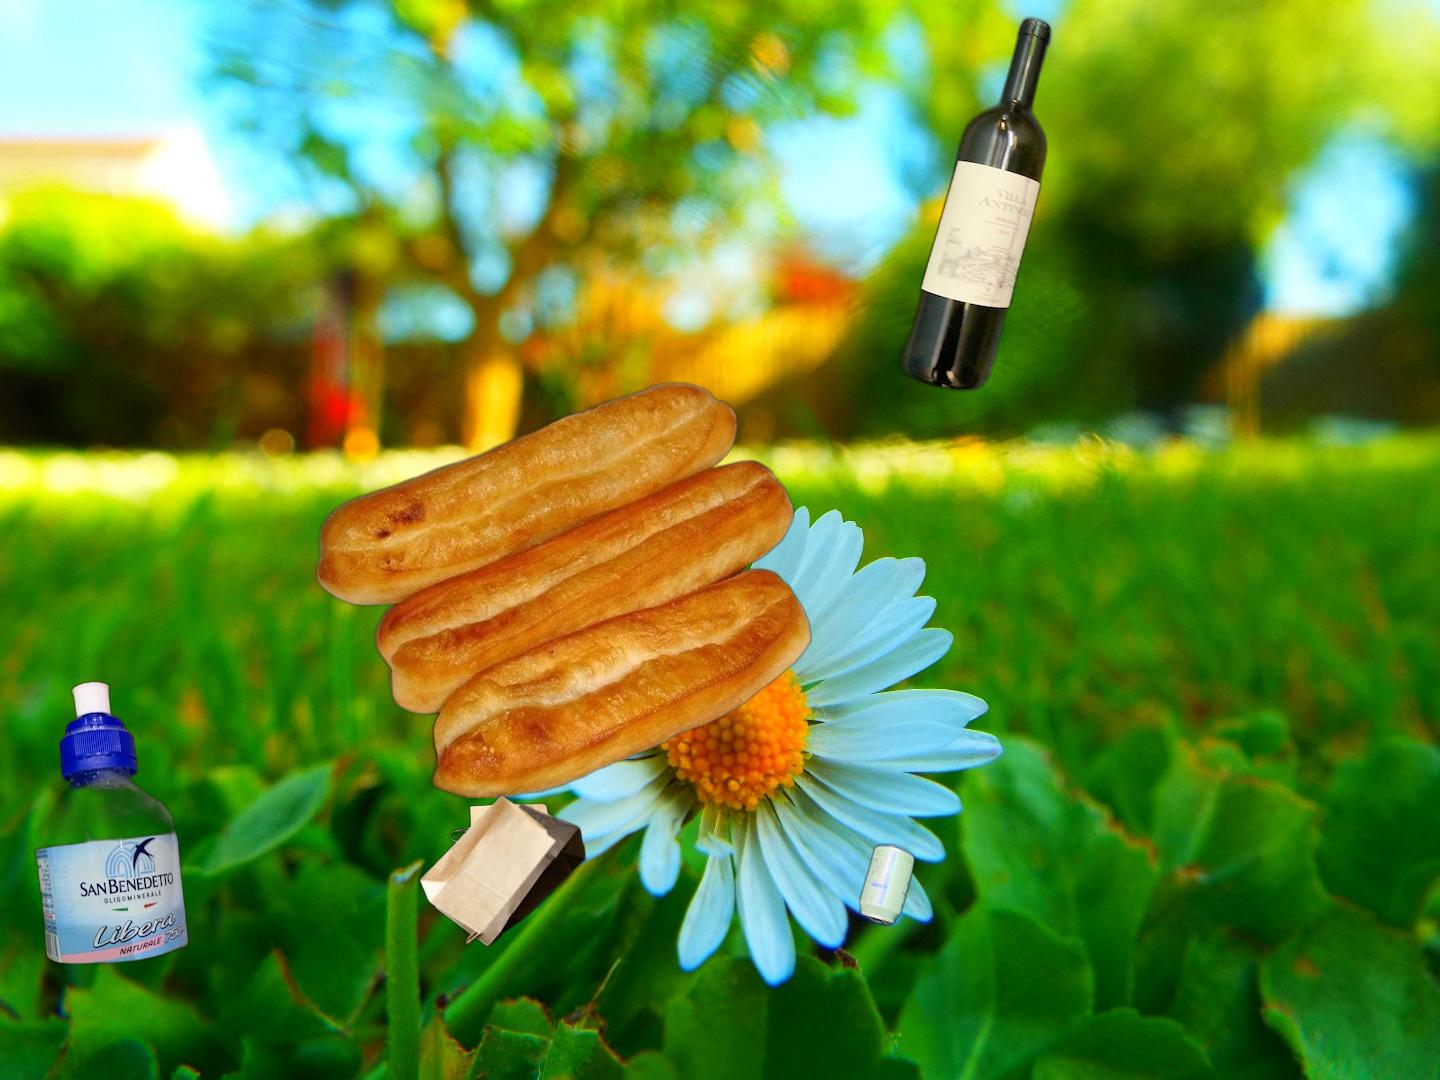biological: (315, 340, 816, 798)
glass: (892, 12, 1056, 397)
metal-cans: (855, 838, 920, 933)
paper-bag: (417, 793, 645, 950)
plastic-bottles: (32, 678, 192, 968)
